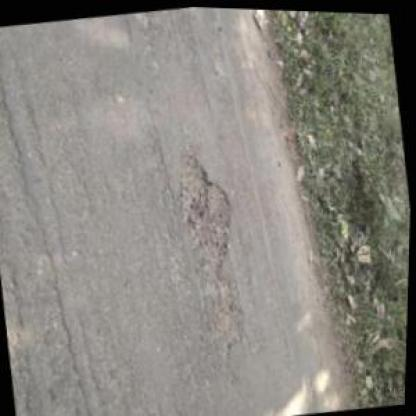pothole: (171, 140, 256, 355)
